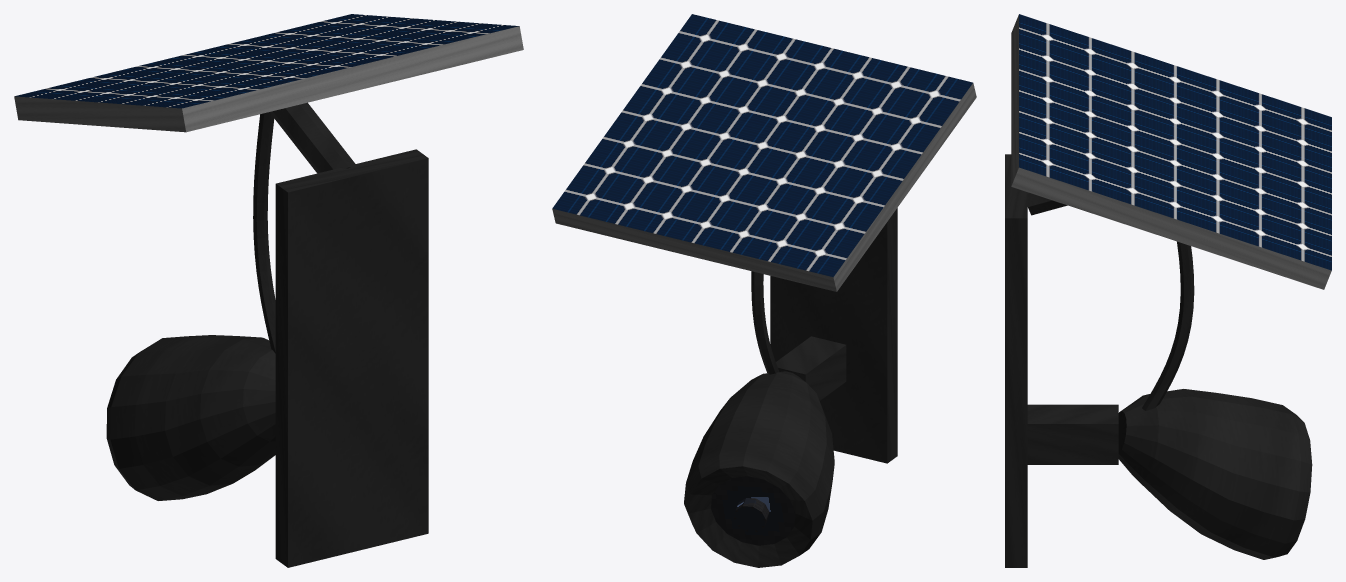
File: alpr_camera_solar_wall.obj
3 renders of one model, left to right at view 1: azimuth 30°, elevation 25°; view 2: azimuth 150°, elevation 25°; view 3: azimuth 270°, elevation 25°, orthographic. The views are drawn at different scales.
Parts seen in each view (by area): view 1: miovision360; view 2: miovision360; view 3: miovision360.
Part boxes in pixels (x1,y1,x2,y2): miovision360: (14, 14, 523, 567); miovision360: (552, 14, 976, 567); miovision360: (1005, 14, 1331, 567).
Size of the model in its own units: 0.96 by 1.4 by 0.8637.
